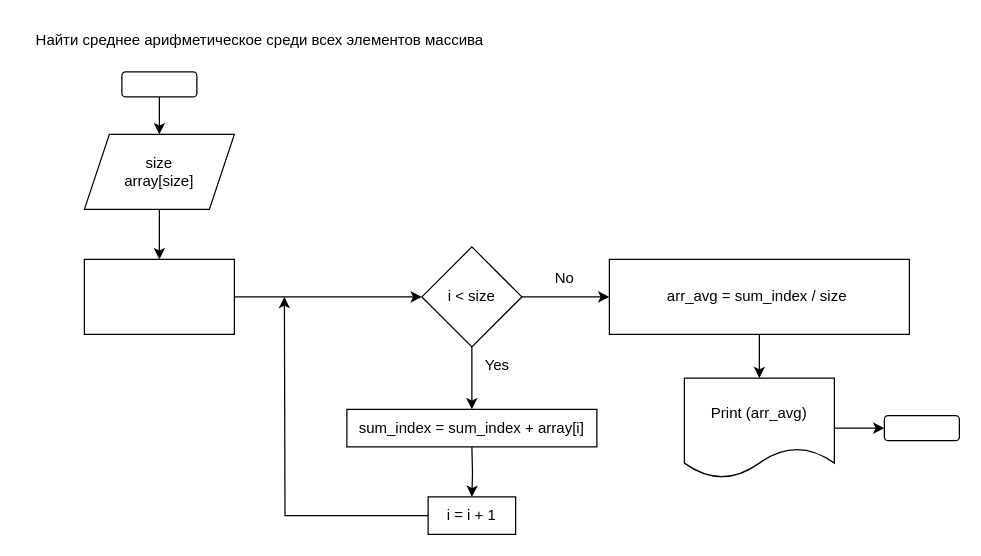
Some shapes in this 981 by 556 pixel diagram are drawn without their labels. The shapes that lost their labels are listed below. From the top down, each one's box as (x1, y1, x2, y2) in pixels, then its label:
(121, 71, 197, 97): START
(83, 258, 234, 334): i = 0 sum_index = 0 arr_avg
(883, 414, 959, 441): FINISH
